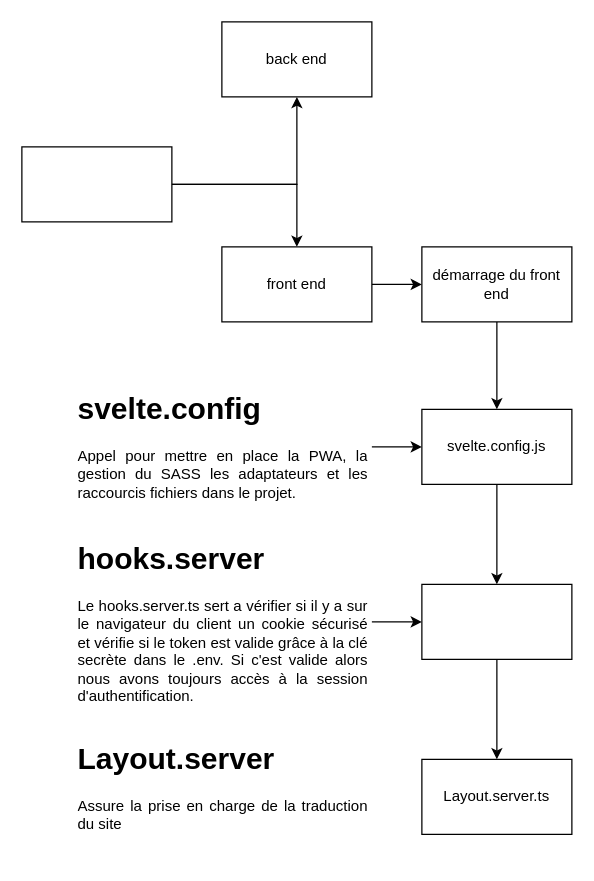
This 594x881 diagram has some shape labels left out. Each missing label, with the centre of its shape:
"hooks.server.ts" belongs at (x=496, y=621).
"npm run dev" belongs at (x=96, y=184).
